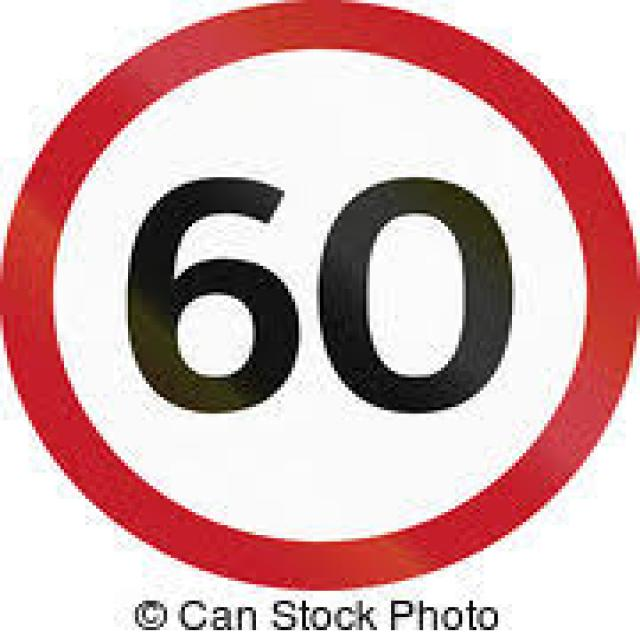Limite-60: (0, 0, 640, 591)
